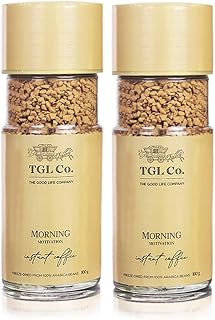Coffee: (1, 2, 215, 303)
